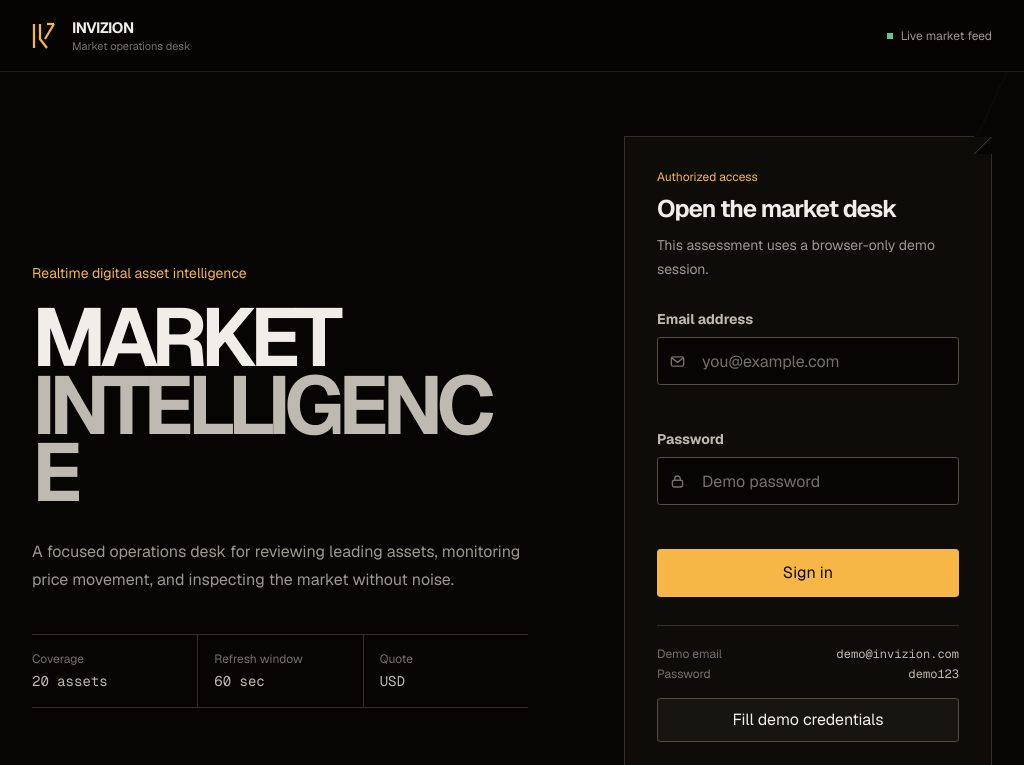
Scenario: LoginForm › explains when the browser cannot persist the session
The width and height of the screenshot is (1024, 765).
Click the button "Fill demo credentials".
click(808, 720)  # box [657,698,959,742]
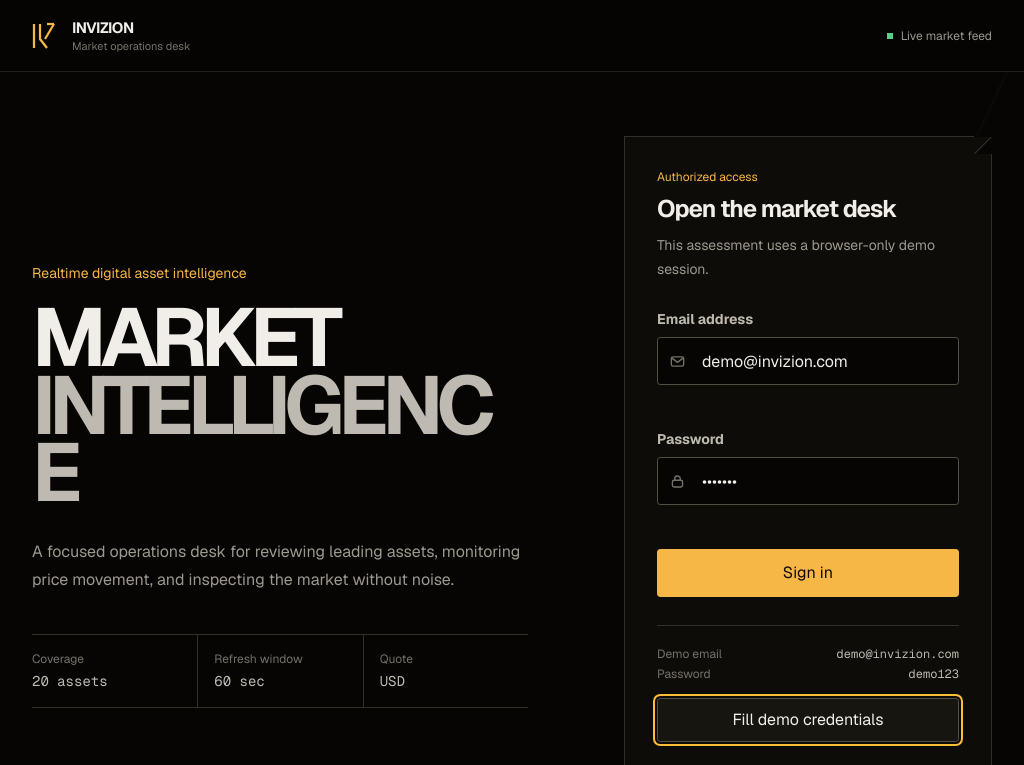
Click the button "Sign in".
click(808, 573)  # box [657,549,959,597]
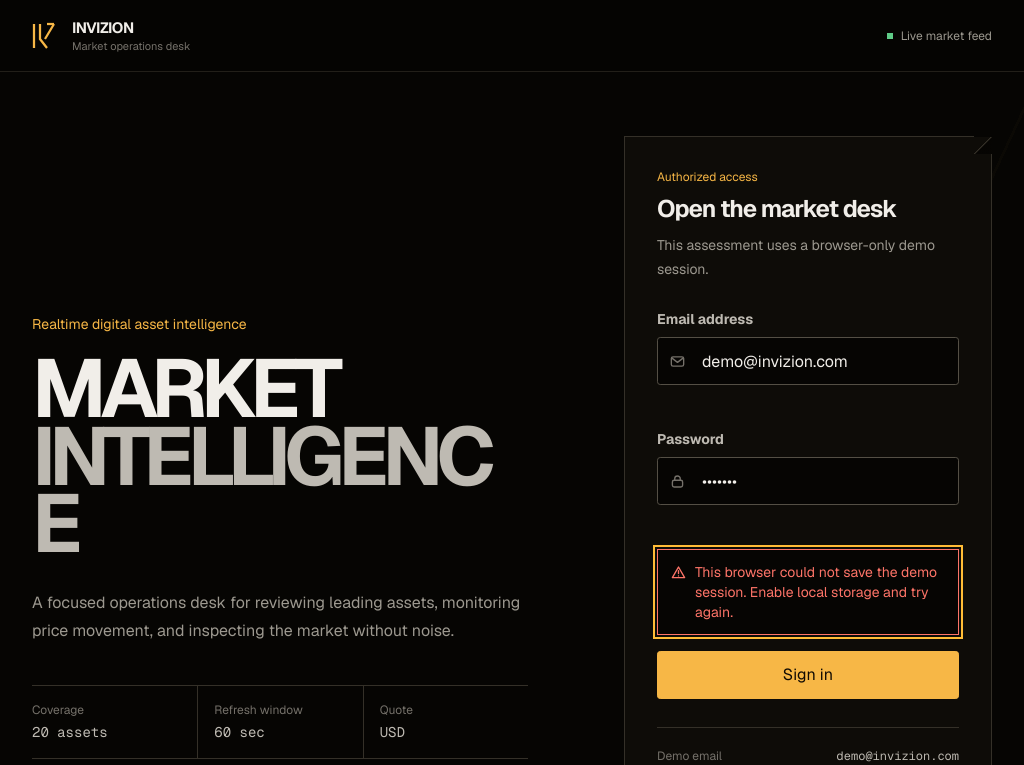
Expected: the text "This browser could not save the demo session. Enable local storage and try again." is shown, [695,563,937,621]
